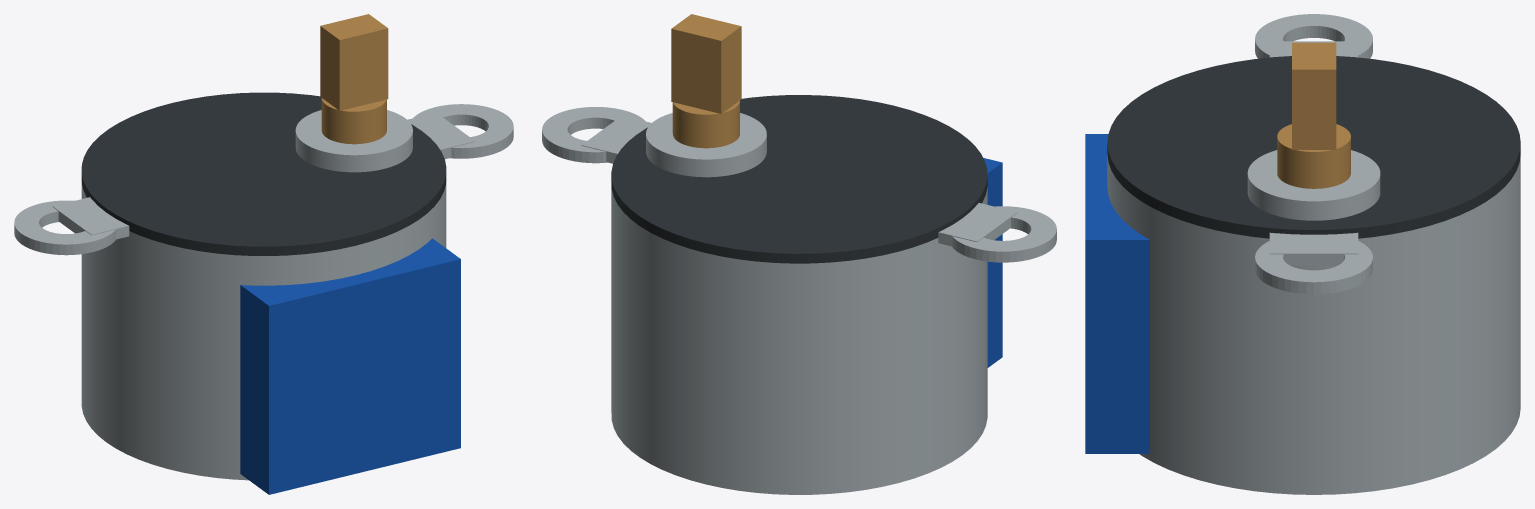
Rendered from stepper_motor.glb.
The picture shows the model from 3 angles, left to right: view 1: azimuth 30°, elevation 25°; view 2: azimuth 150°, elevation 25°; view 3: azimuth 270°, elevation 25°; orthographic projection. The views are drawn at different scales.
Size of the model in its own units: 43 by 30 by 29.5.
